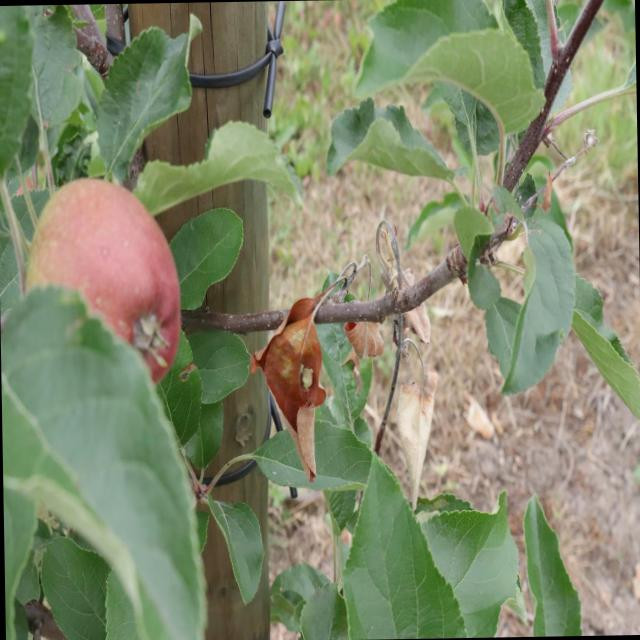-FireBlight-: (266, 291, 329, 488), (341, 264, 388, 358)
